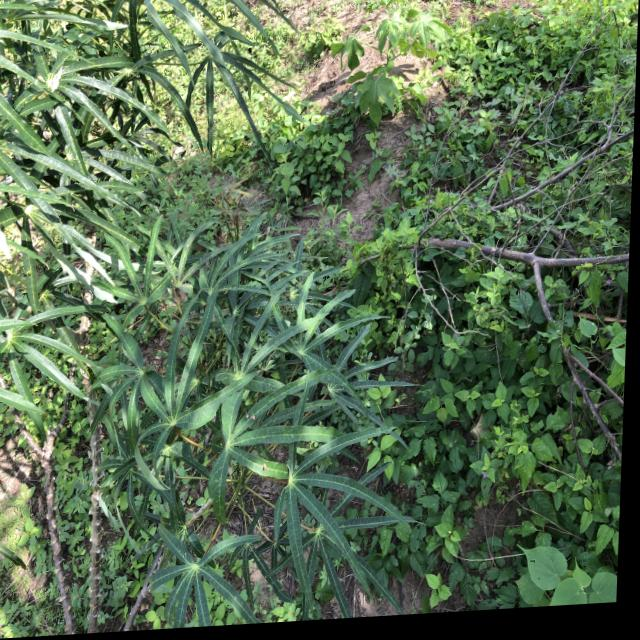Maleza: (425, 366, 640, 640), (467, 24, 618, 211), (357, 232, 527, 378), (271, 131, 361, 211)
Mosca: (240, 403, 262, 429), (255, 461, 272, 484), (300, 364, 315, 382), (118, 138, 128, 157), (48, 323, 58, 340)
